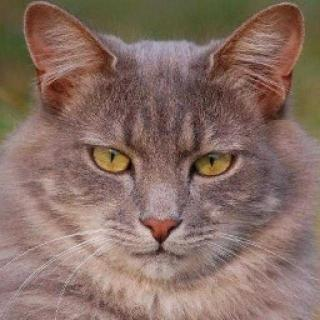cat: (27, 2, 301, 278)
nose: (135, 182, 192, 252)
